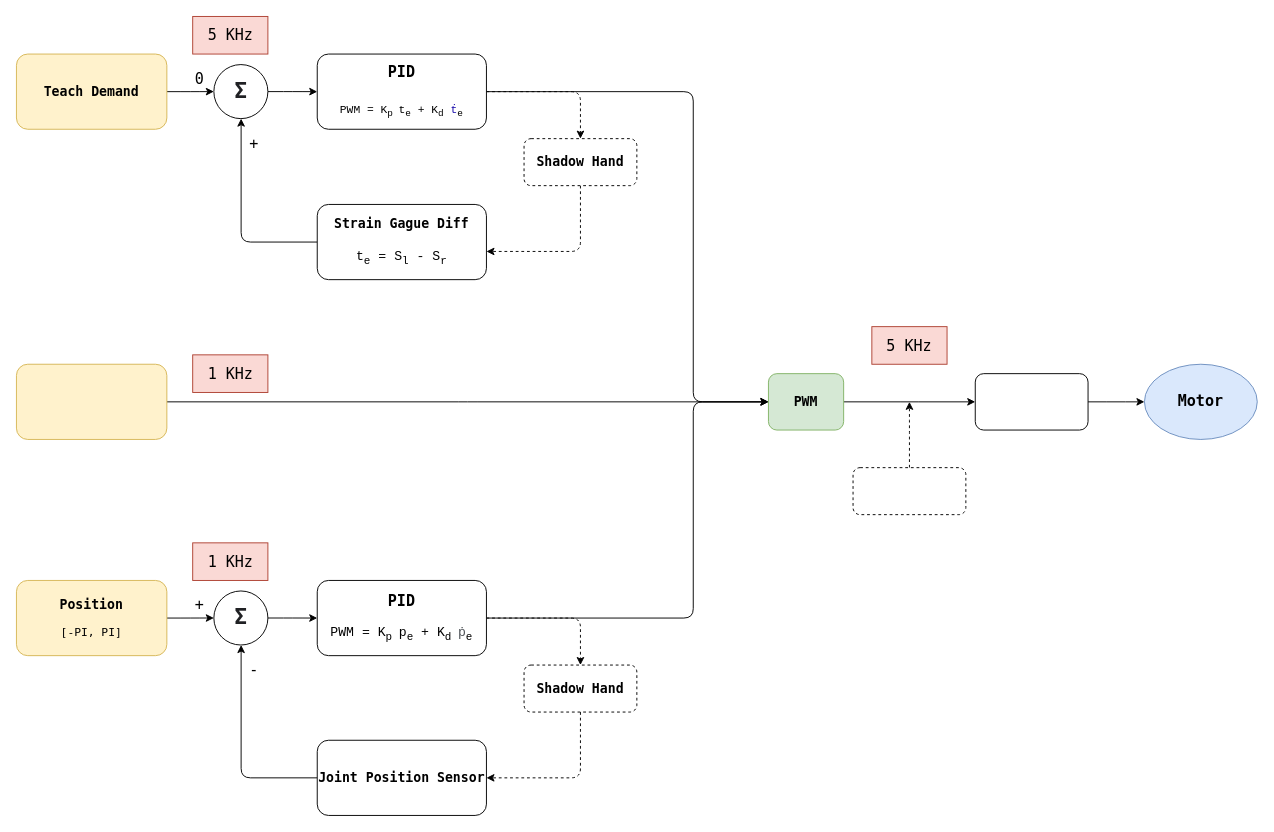
The diagram is 1274 pixels wide and 832 high, and some of its shapes have lost their labels. The box of each missing label's shape, as (x1, y1, x2, y2) in pixels:
PWM Command [-1023, 1023]: (16, 363, 167, 439)
PWM Limited: (974, 373, 1088, 430)
PWM Limits: (852, 467, 966, 515)
